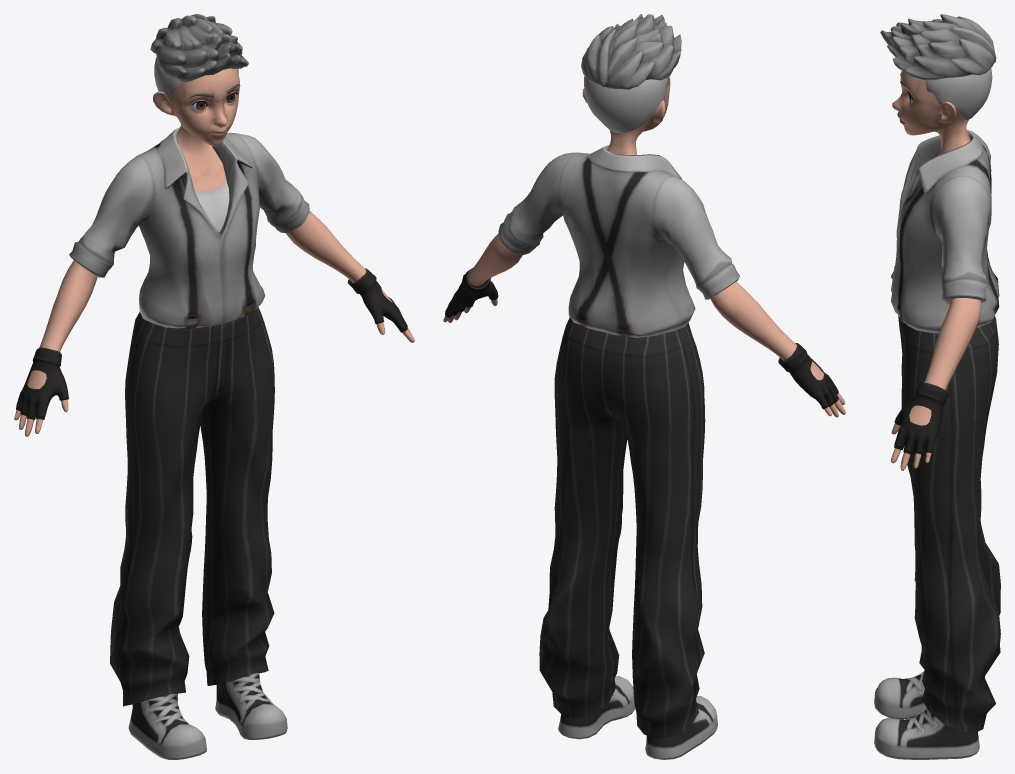
File: StaffMicky_Mesh.obj
The picture shows the model from 3 angles, left to right: view 1: azimuth 30°, elevation 25°; view 2: azimuth 150°, elevation 25°; view 3: azimuth 270°, elevation 25°; orthographic projection.
Parts seen in each view (by area): view 1: StaffMicky_Mesh_0; view 2: StaffMicky_Mesh_0; view 3: StaffMicky_Mesh_0.
Part boxes in pixels (left/top/right/bottom): StaffMicky_Mesh_0: left=14, top=14, right=414, bottom=759; StaffMicky_Mesh_0: left=443, top=14, right=845, bottom=759; StaffMicky_Mesh_0: left=874, top=14, right=1000, bottom=759.
Bounding box in the file's own units: 1.06 × 1.84 × 0.2966.
Materials: 1 (1 with a texture image).
